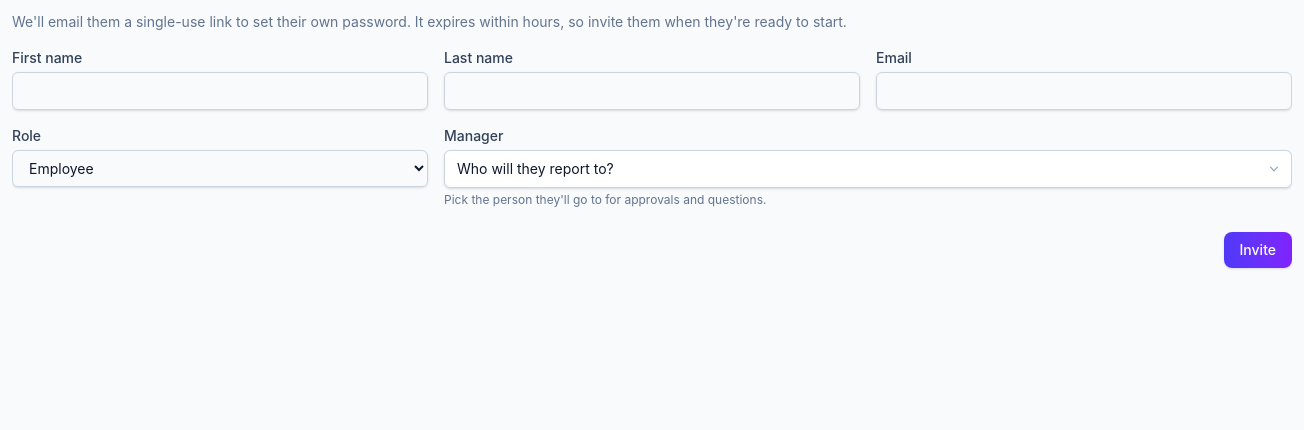
InviteEmployeeForm › confirms the invite was emailed, keeping the link as a fallback
Step 1. Type "New" into the field labelled "First name" → coordinates (220, 91), box [12, 72, 428, 110]
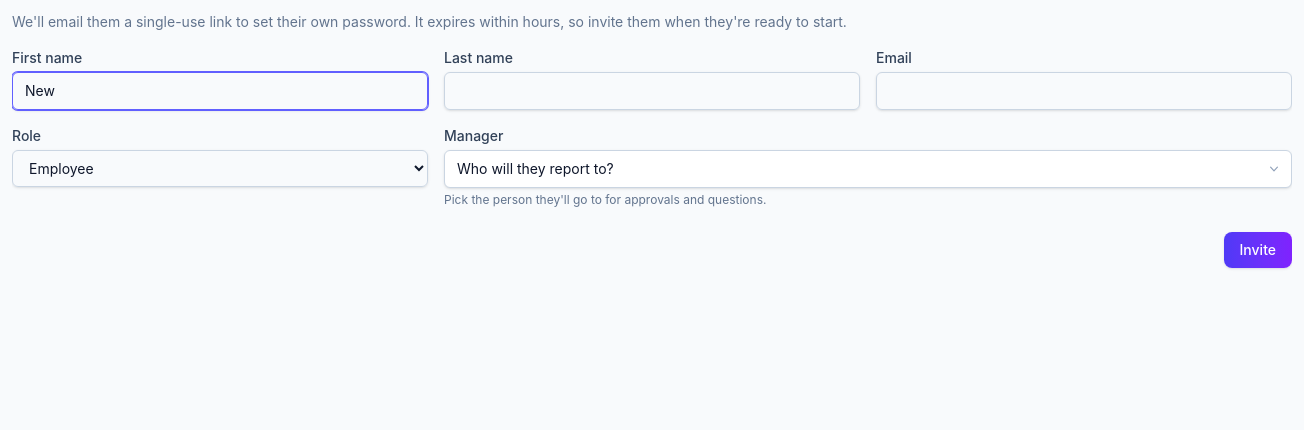
Step 2. Type "Hire" into the field labelled "Last name" → coordinates (652, 91), box [444, 72, 860, 110]
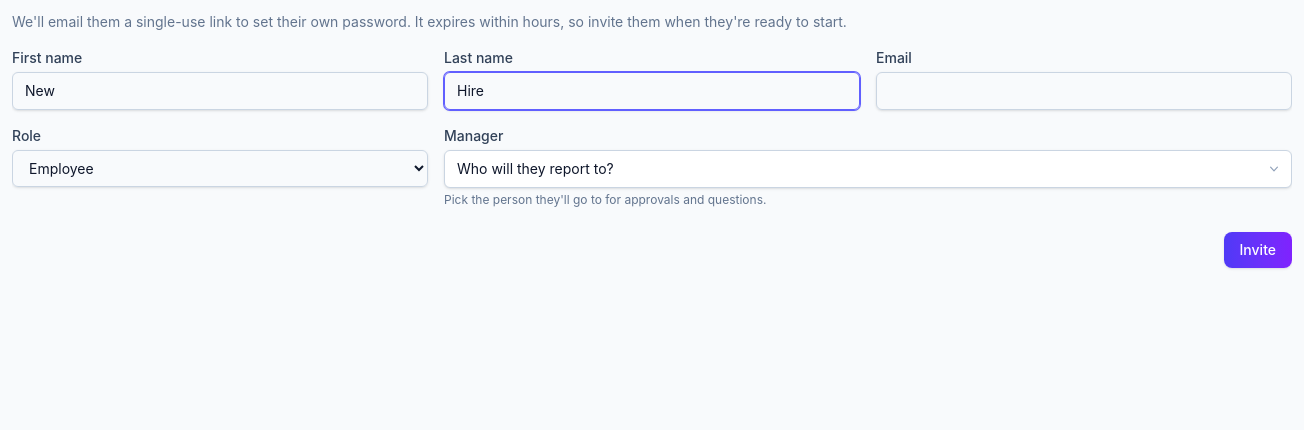
Step 3. Type "new@example.com" into the field labelled "Email" → coordinates (1084, 91), box [876, 72, 1292, 110]
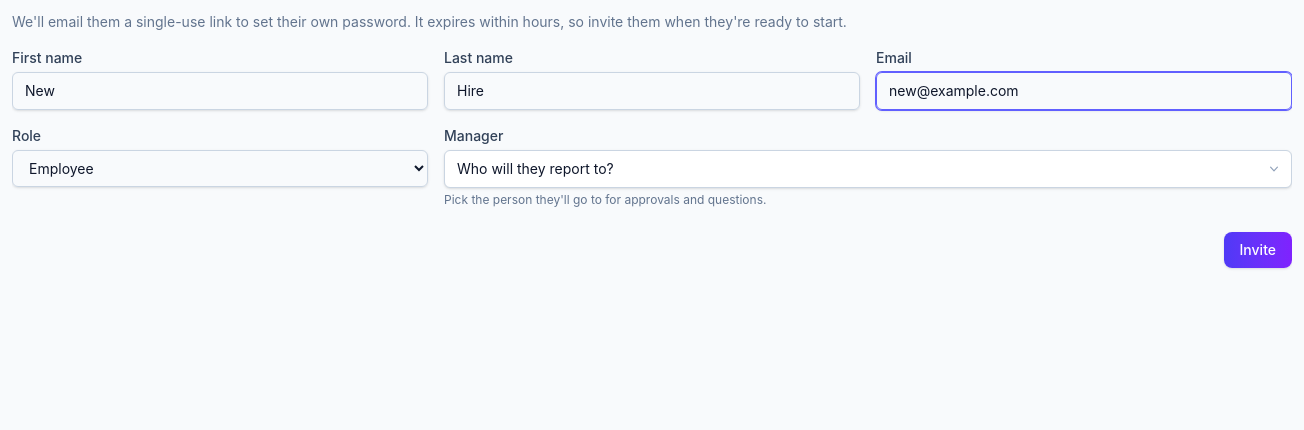
Step 4. Select "Test User" in the dropdown labelled "Manager" → coordinates (868, 169), box [444, 150, 1292, 188]
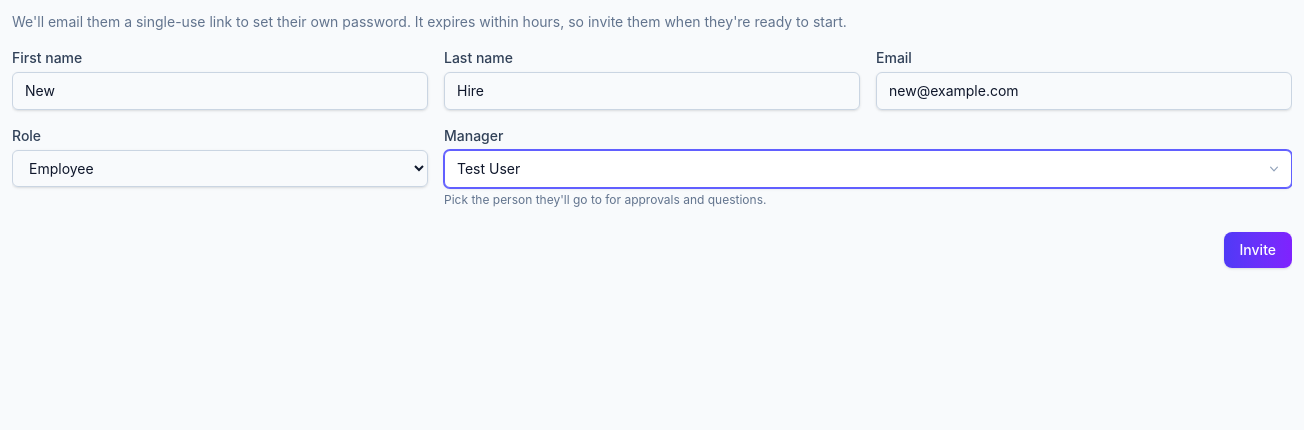
Step 5. Click the button "Invite" → coordinates (1258, 250), box [1224, 232, 1292, 268]
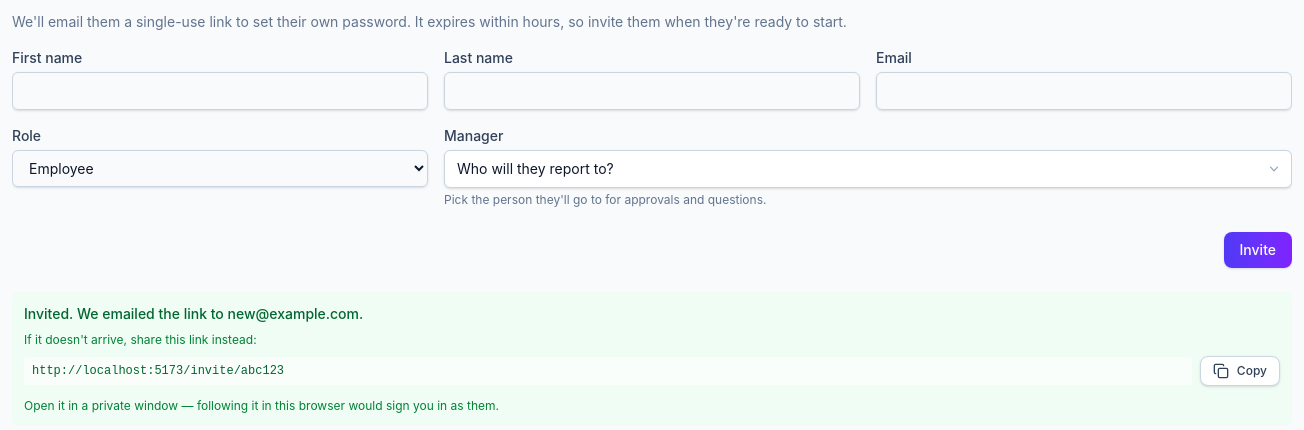
Expected: the text "Invited. We emailed the link to new@example.com." is shown, [24, 305, 363, 322]
Expected: the text "http://localhost:5173/invite/abc123" is shown, [24, 357, 1192, 385]
